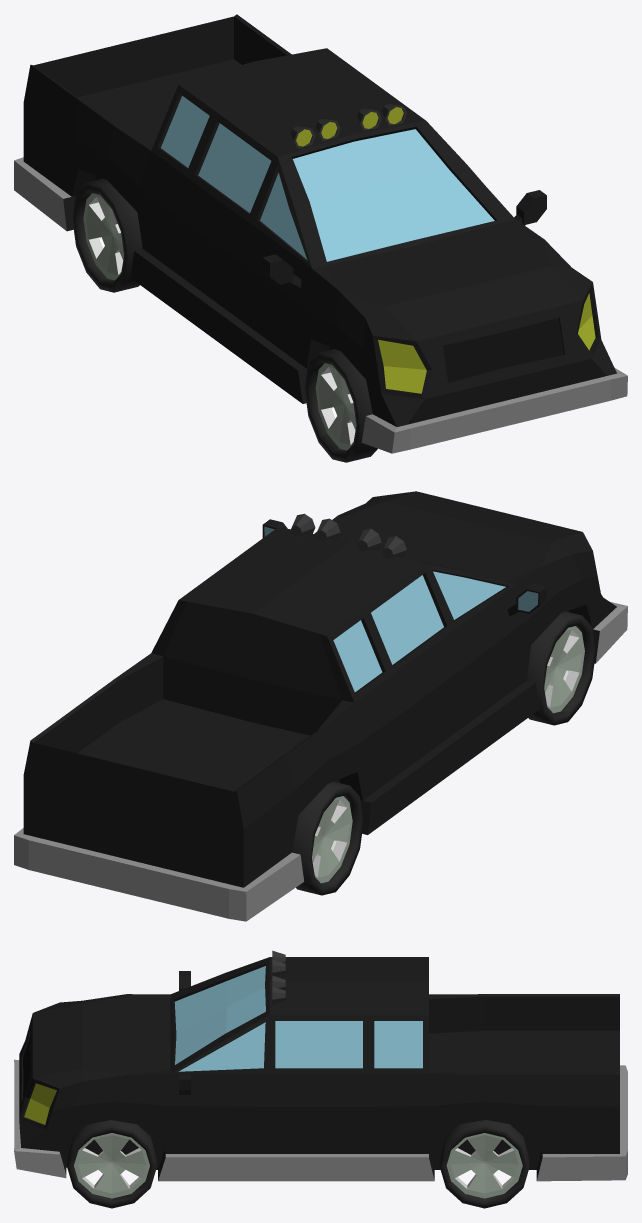
The model's file is Camionete 1.fbx.
The picture shows the model from 3 angles, top to bottom: view 1: azimuth 30°, elevation 25°; view 2: azimuth 150°, elevation 25°; view 3: azimuth 270°, elevation 25°; orthographic projection. The views are drawn at different scales.
Visible parts, largest first — view 1: Camionete; view 2: Camionete; view 3: Camionete.
Boxes of the visible parts, bbox=[...] form: Camionete: bbox=[14, 14, 627, 462]; Camionete: bbox=[14, 491, 627, 921]; Camionete: bbox=[14, 950, 627, 1208].
Bounding box in the file's own units: 322 × 269 × 769.
